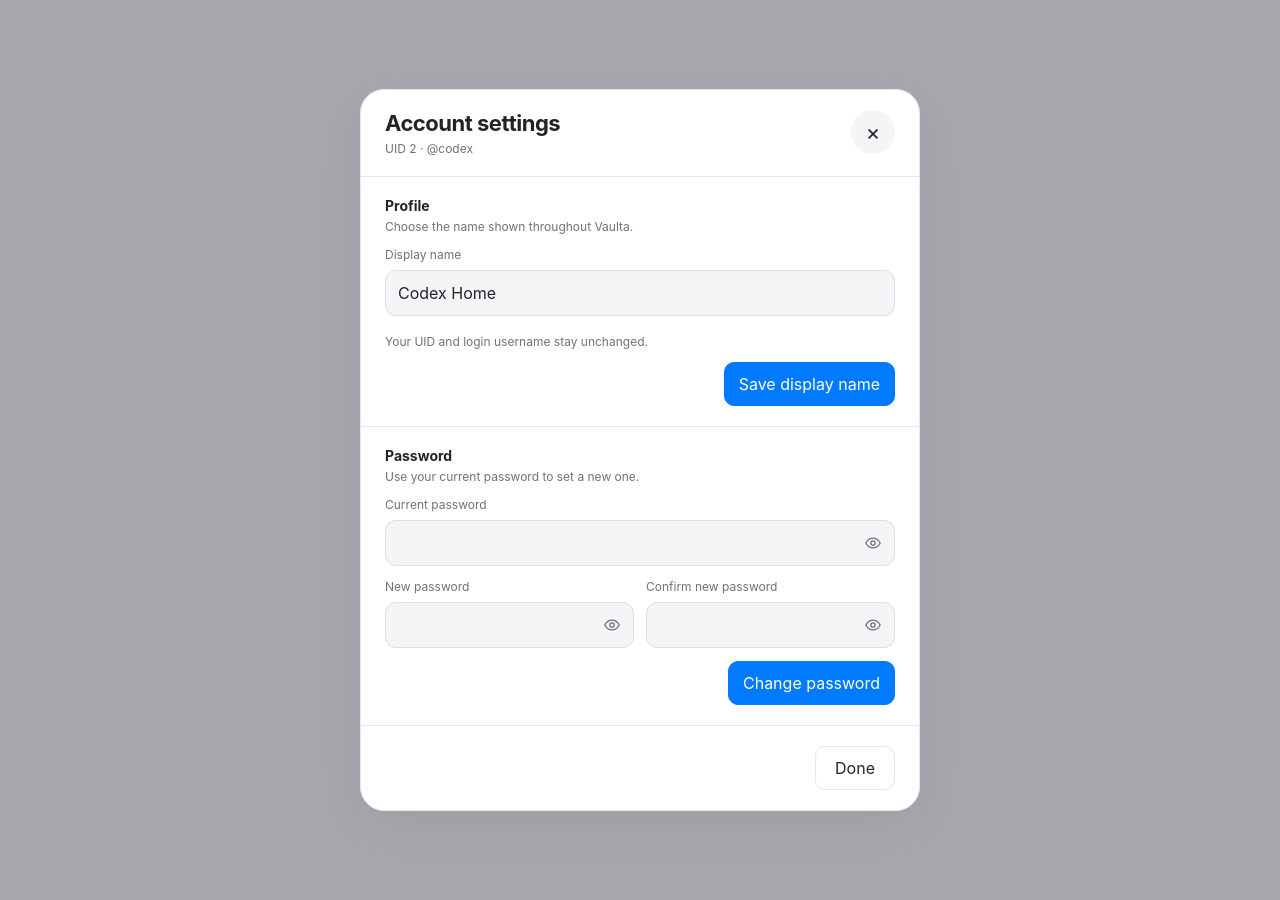
Scenario: AccountSettingsDialog › updates the display name without closing the settings dialog
The width and height of the screenshot is (1280, 900).
Replace the text in the field labelled "Display name" with "New Name". click: (640, 293)
box: [385, 270, 895, 316]
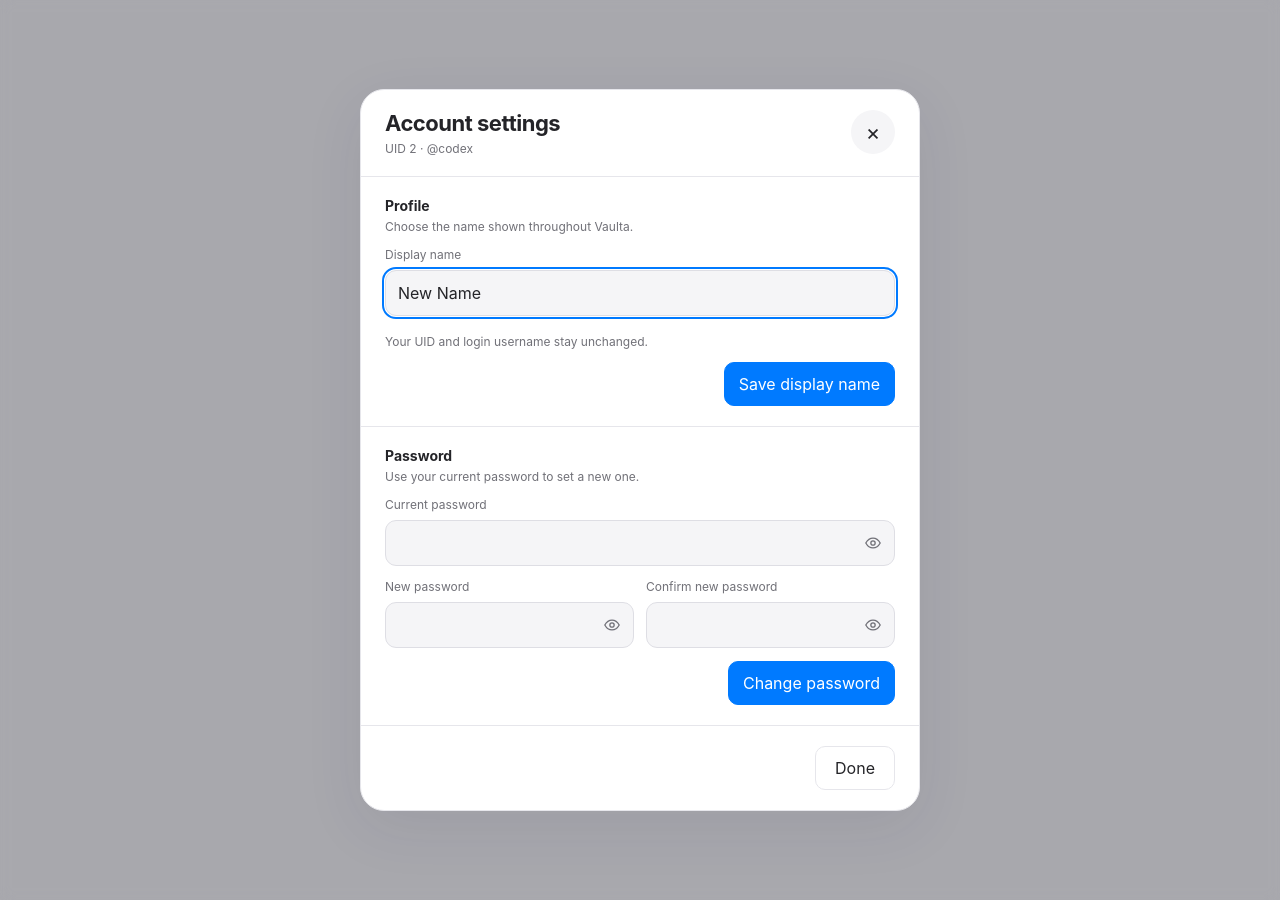
Submit the form that starts with "Profile", box [361, 177, 919, 427]
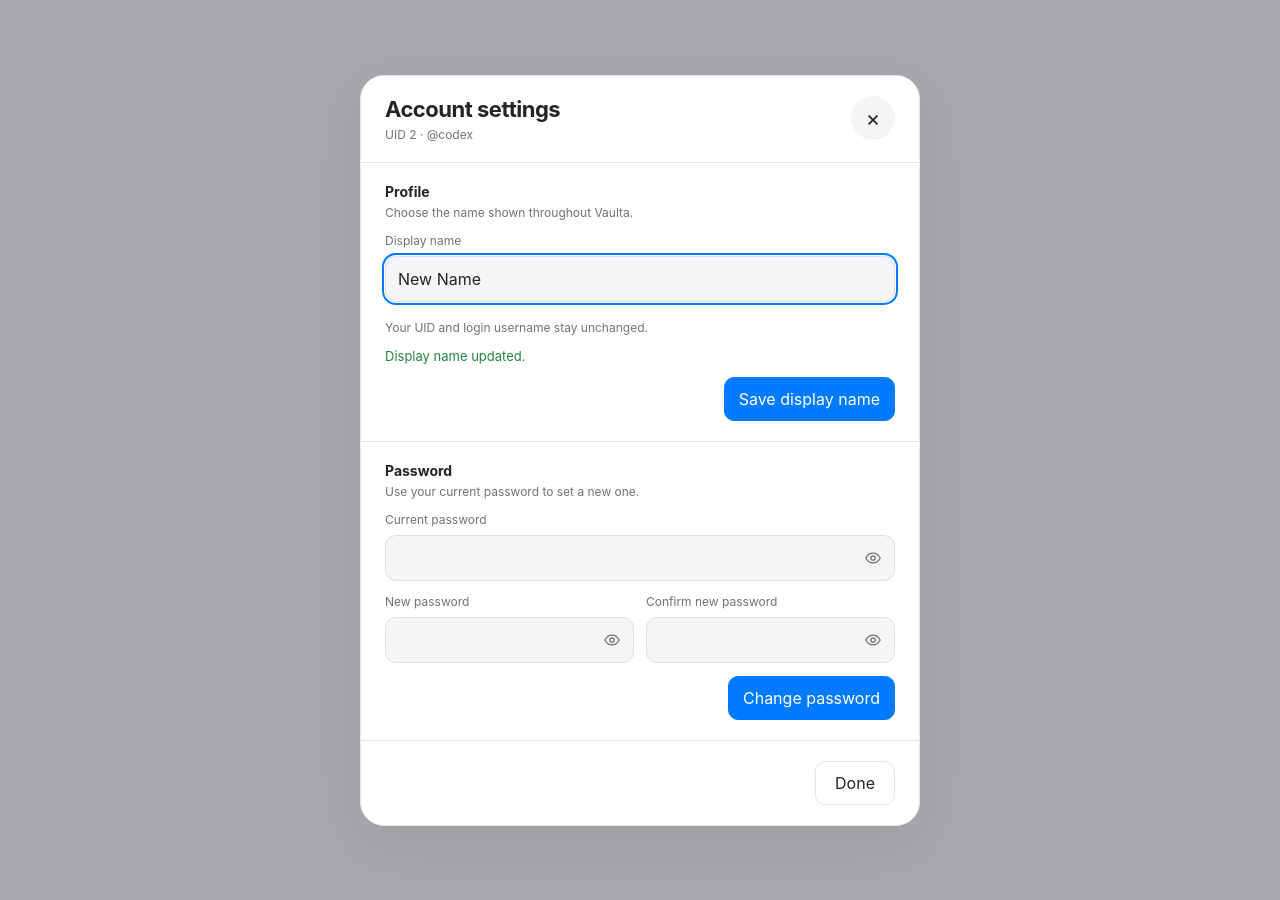
Expected: the text "Display name updated." is shown, [385, 348, 526, 364]
